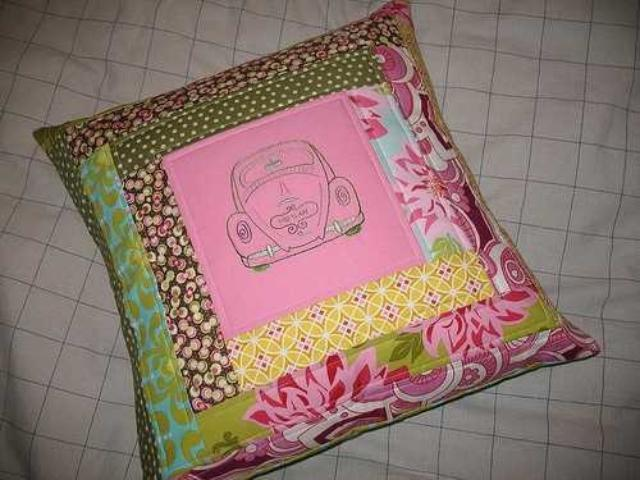pillow: (32, 0, 600, 478)
